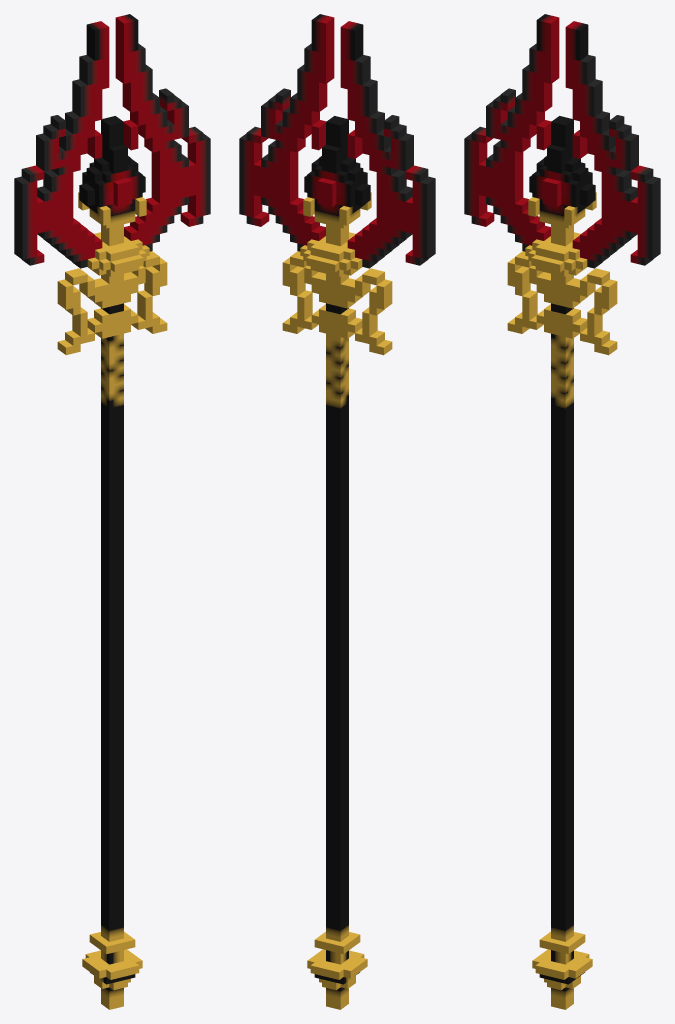
The model's file is Homa_staff.fbx.
3 renders of one model, left to right at view 1: azimuth 30°, elevation 25°; view 2: azimuth 150°, elevation 25°; view 3: azimuth 330°, elevation 25°, orthographic.
Visible parts, largest first — view 1: Homa_staff; view 2: Homa_staff; view 3: Homa_staff.
Boxes of the visible parts, <box> form: Homa_staff: <box>14,14,210,1009</box>; Homa_staff: <box>239,14,435,1009</box>; Homa_staff: <box>464,14,660,1009</box>.
Size of the model in its own units: 26 by 130 by 8.
1 material, 1 textured.
